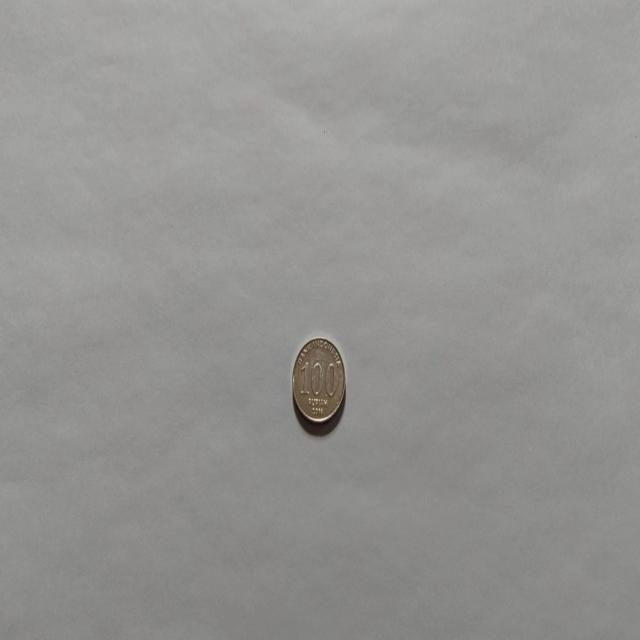seratus rupiah: (290, 335, 346, 428)
